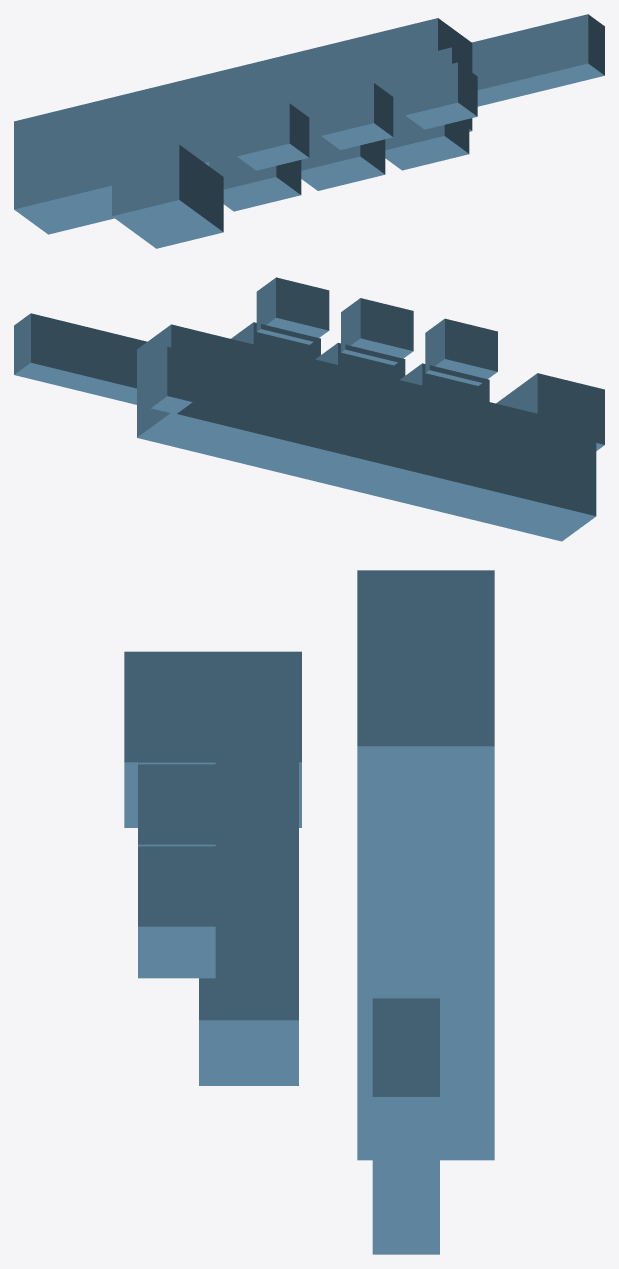
The model's file is cargo_box.glb.
3 renders of one model, top to bottom at view 1: azimuth 30°, elevation 25°; view 2: azimuth 150°, elevation 25°; view 3: azimuth 270°, elevation 25°, orthographic. The views are drawn at different scales.
Parts seen in each view (by area): view 1: cargo; view 2: cargo; view 3: cargo.
Boxes of the visible parts, bbox=[...] form: cargo: bbox=[14, 14, 604, 248]; cargo: bbox=[14, 277, 604, 541]; cargo: bbox=[124, 570, 494, 1254].
Bounding box in the file's own units: 4.66 × 0.85 × 1.33.
